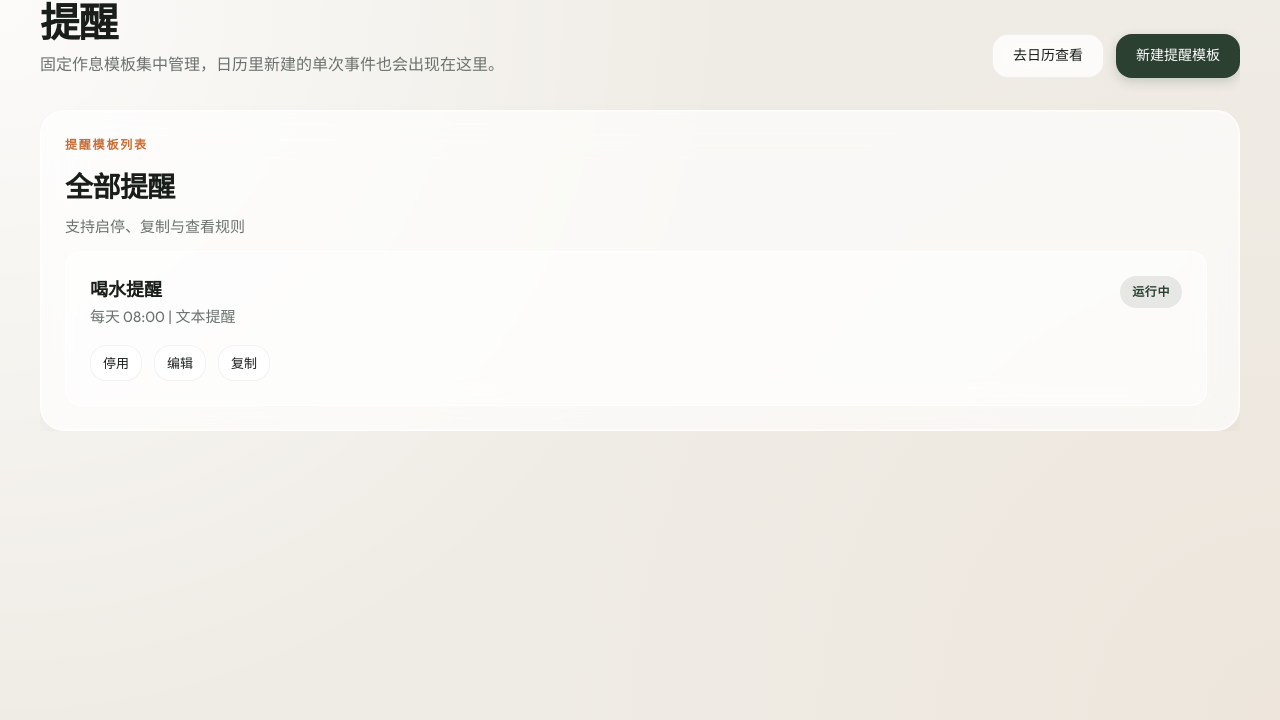
Test case: RemindersPage › renders edit flow inside a dialog instead of inline form
Click the button with aria-label "编辑 喝水提醒": coordinates (180, 363) [154, 345, 206, 381]
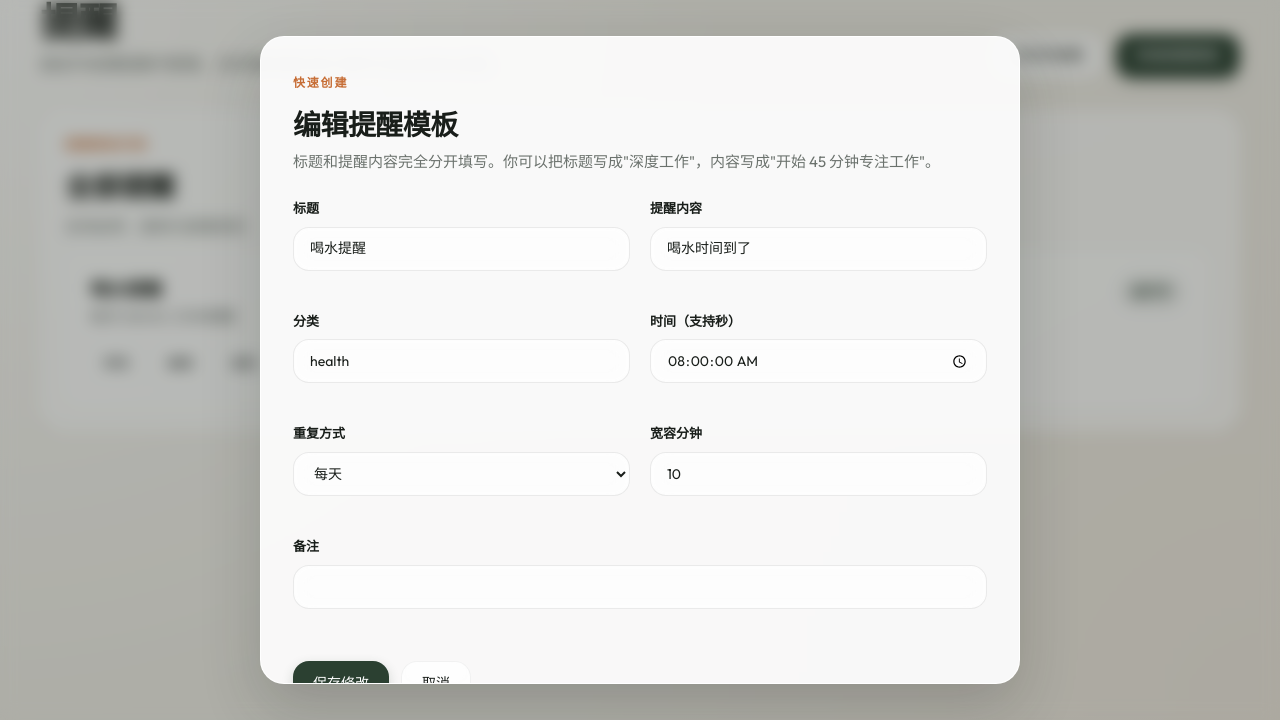
Expected: the dialog "编辑提醒模板" is shown, [260, 36, 1020, 684]
